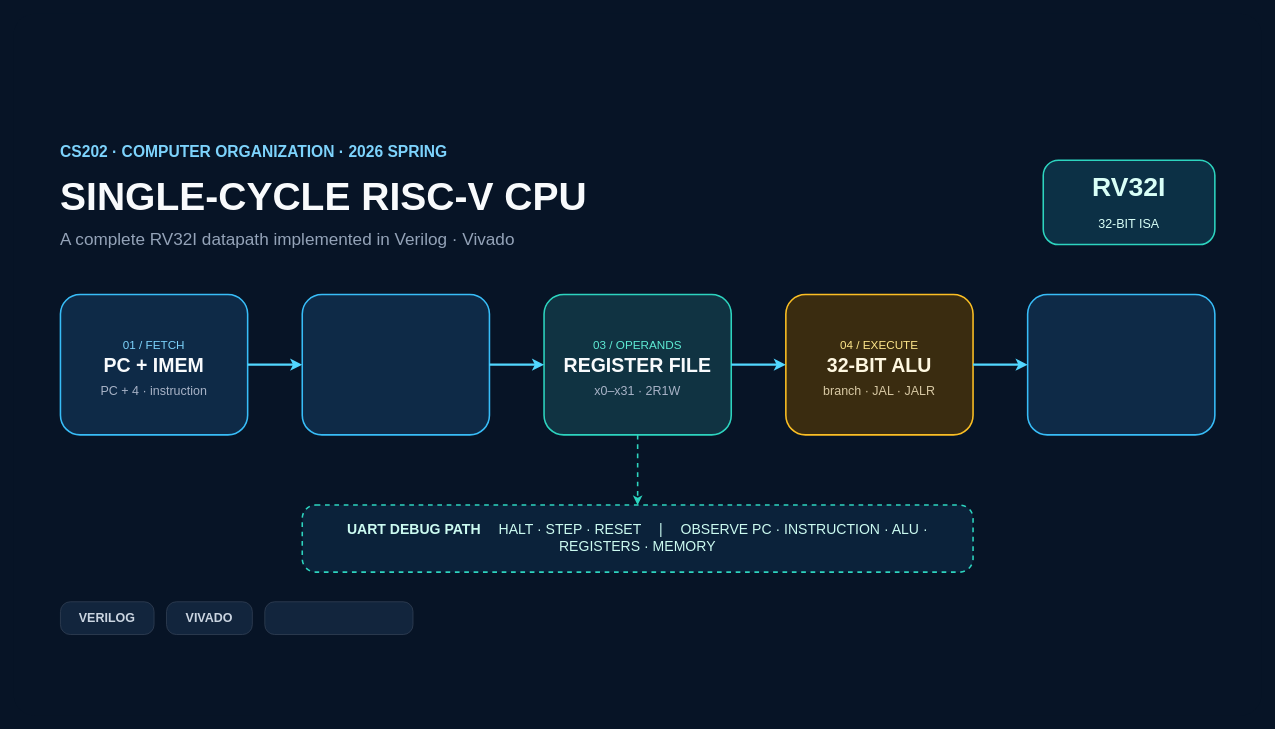
This 1275x729 diagram has some shape labels left out. The shapes that lost their labels are listed below. From the top down, each one's box as (x1, y1, x2, y2) in pixels, then its label:
(301, 293, 490, 435): 02 / DECODE CONTROL + IMM opcode · I/S/B/U/J
(1026, 293, 1215, 435): 05 / MEMORY + WB DMEM + WB MUX load · store · writeback
(264, 601, 413, 635): HARVARD MEMORY
